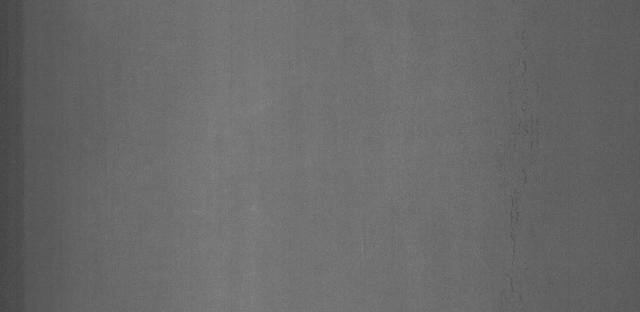silk_spot: (488, 51, 572, 204)
